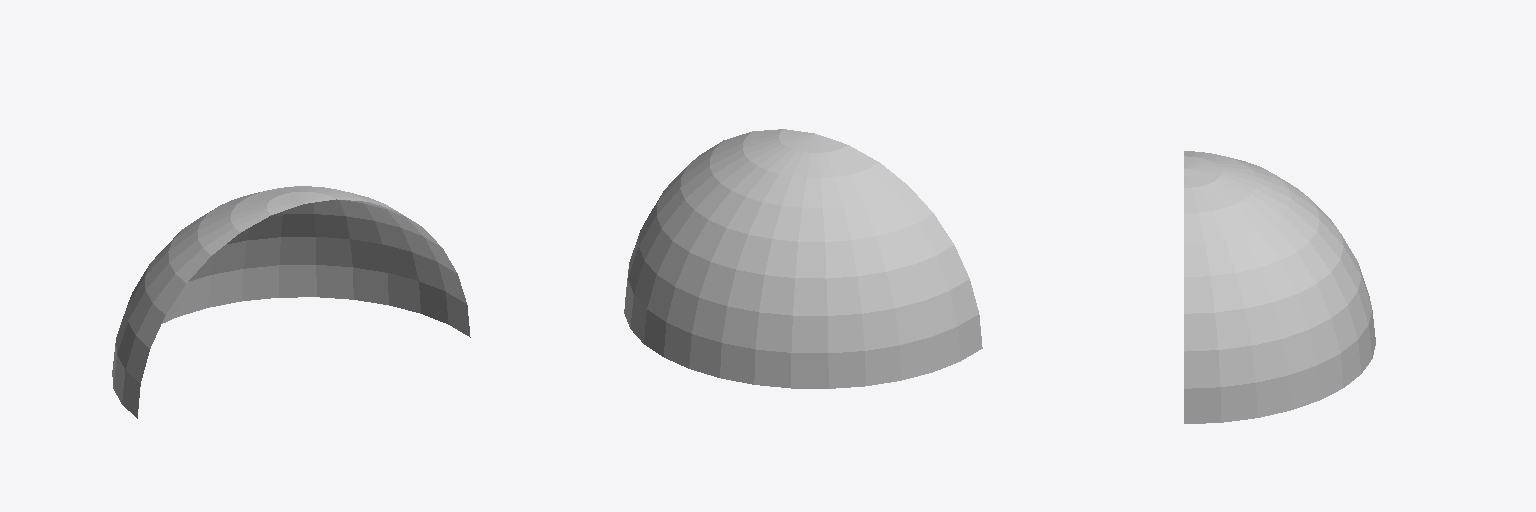
The model's file is Luna 2.obj.
3 views of the same model, side by side, from view 1: azimuth 30°, elevation 25°; view 2: azimuth 150°, elevation 25°; view 3: azimuth 270°, elevation 25° (orthographic).
Parts seen in each view (by area): view 1: Esfera; view 2: Esfera; view 3: Esfera.
Boxes of the visible parts, box(x1,y1,x2,y2) form: Esfera: box(112, 186, 470, 418); Esfera: box(624, 129, 982, 388); Esfera: box(1184, 151, 1375, 423).
Size of the model in its own units: 2 by 1 by 1.